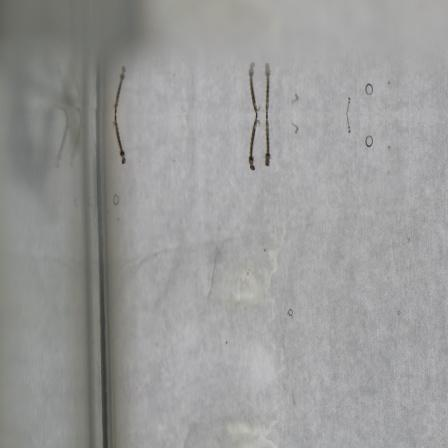Jentik-Nyamuk: (108, 111, 131, 168), (244, 119, 259, 172), (261, 121, 274, 171)
